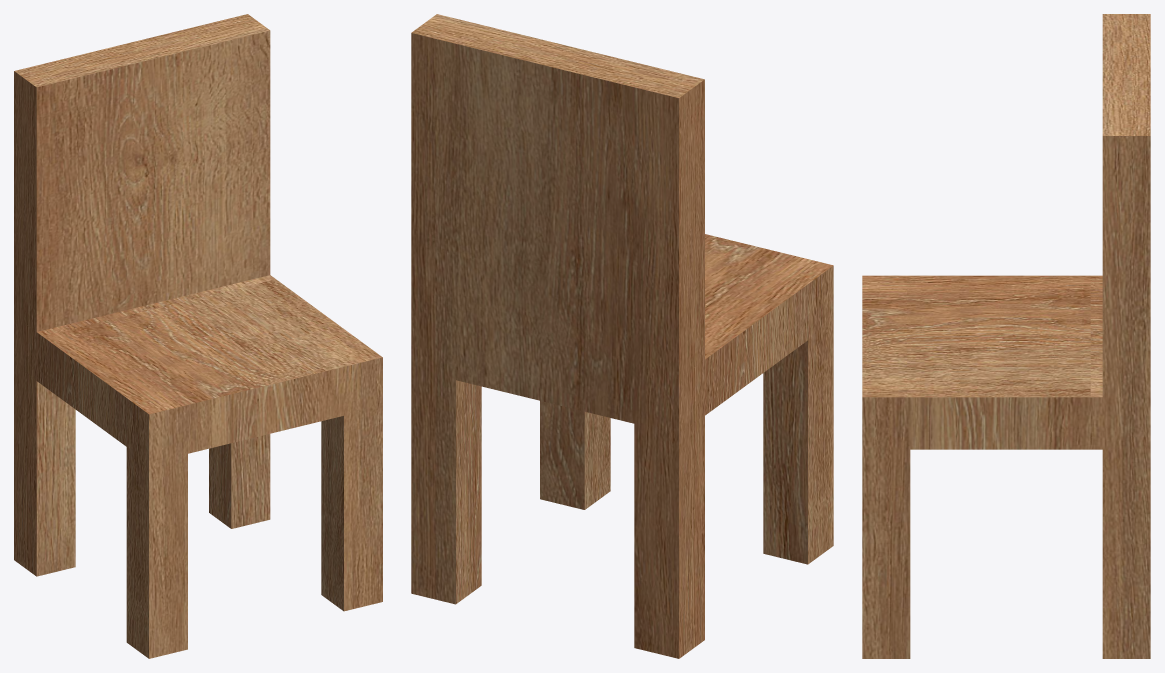
File: chair.glb
3 renders of one model, left to right at view 1: azimuth 30°, elevation 25°; view 2: azimuth 150°, elevation 25°; view 3: azimuth 270°, elevation 25°, orthographic. The views are drawn at different scales.
Visible parts, largest first — view 1: chair; view 2: chair; view 3: chair.
Boxes of the visible parts, x1,y1,x2,y2 form: chair: (14, 14, 382, 658); chair: (411, 14, 833, 658); chair: (862, 14, 1150, 658).
Bounding box in the file's own units: 0.5 × 1 × 0.5.
Materials: 1 (1 with a texture image).
